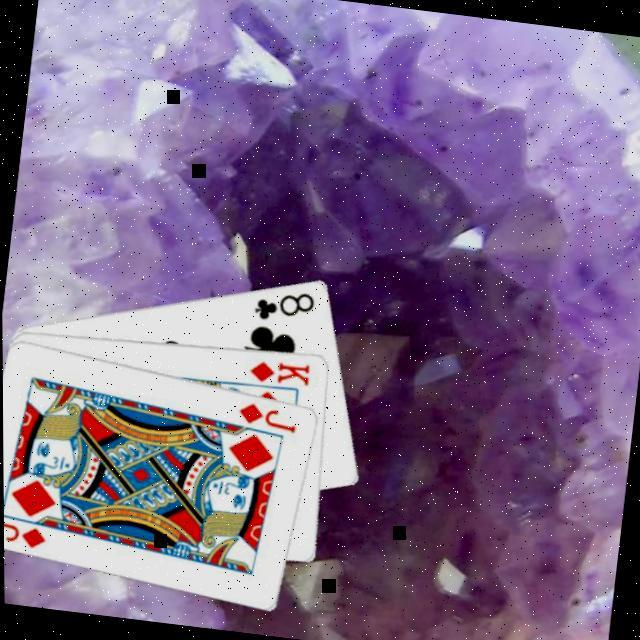8C: (250, 282, 319, 328)
JD: (234, 396, 301, 435), (3, 512, 50, 551)
KD: (246, 353, 315, 391)
